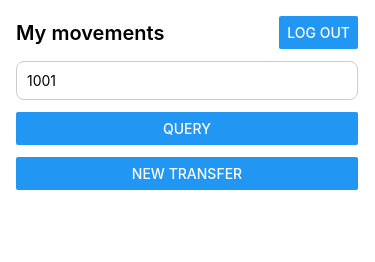
Scenario: MovementsScreen › queries the dashboard and shows the customer name and the movements
Click the button "Query".
click(187, 128)  # box top-left (16, 112), bottom-right (358, 145)
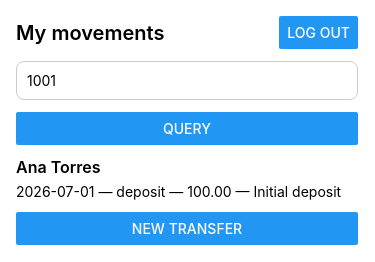
Result: the text "Ana Torres" is shown at top-left (16, 157), bottom-right (100, 177)
Result: the text "2026-07-01 — deposit — 100.00 — Initial deposit" is shown at top-left (16, 183), bottom-right (358, 200)
